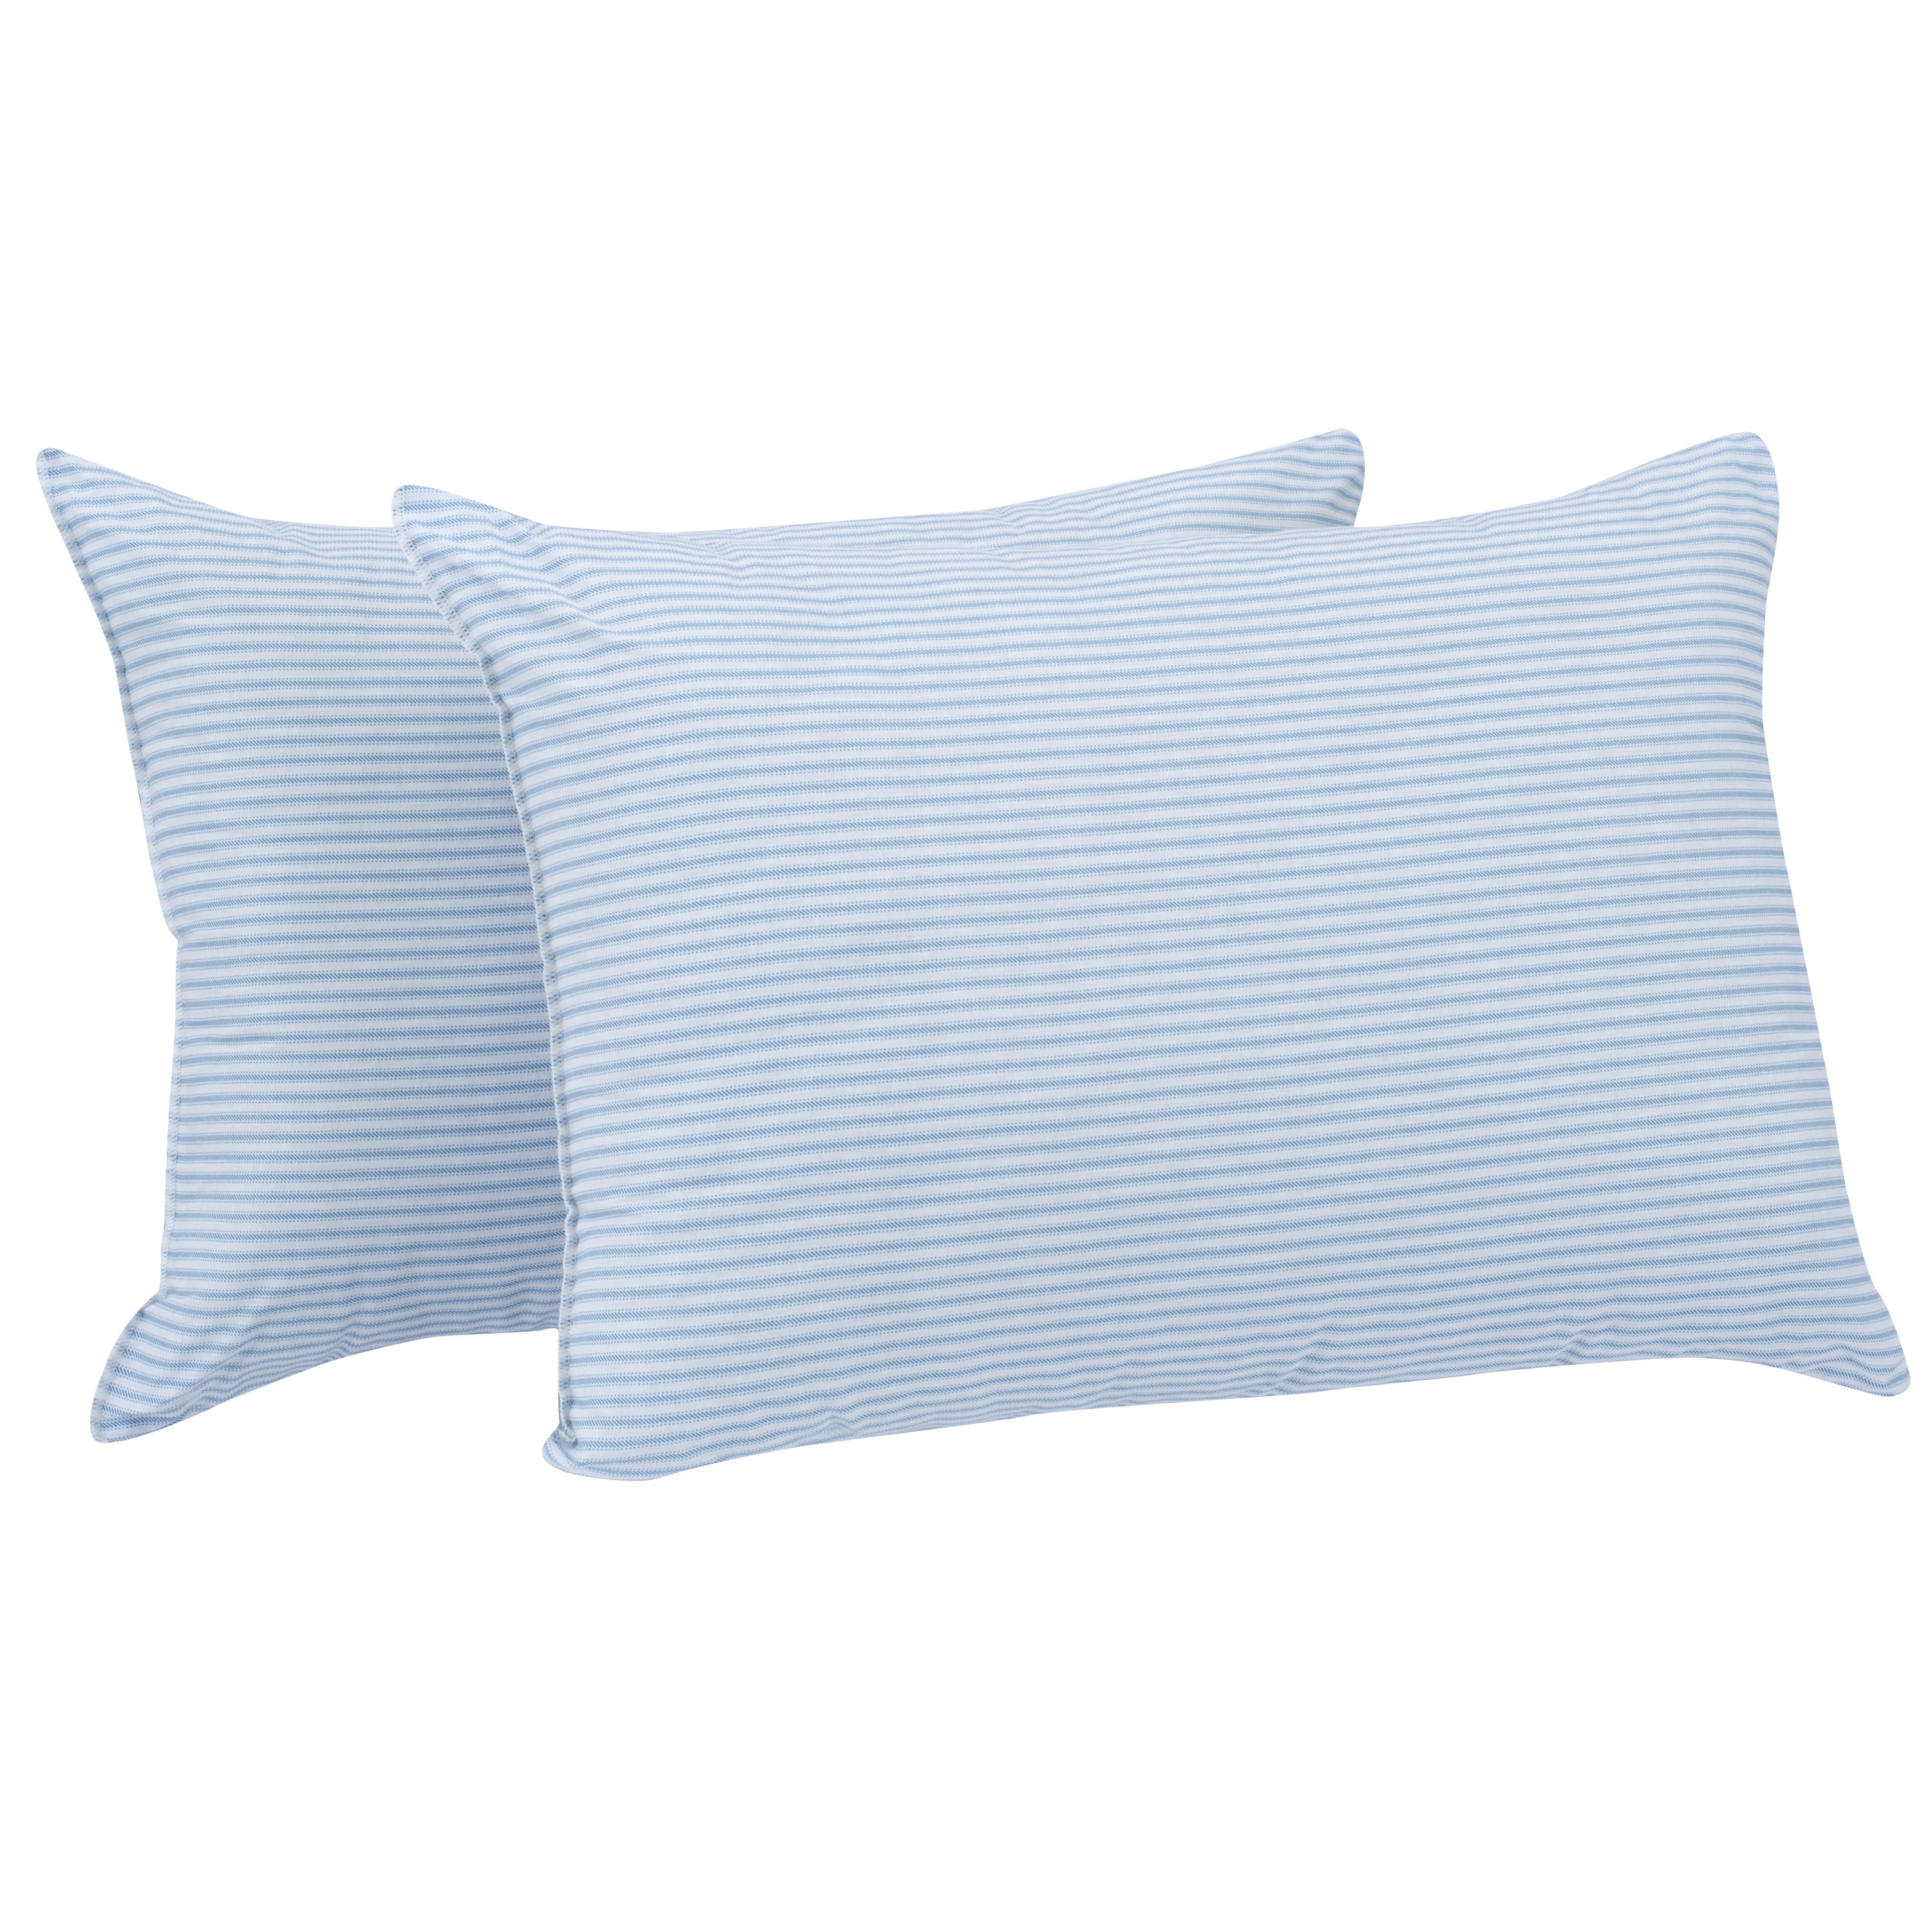bantal: (414, 449, 1932, 1461), (34, 435, 518, 1461)
